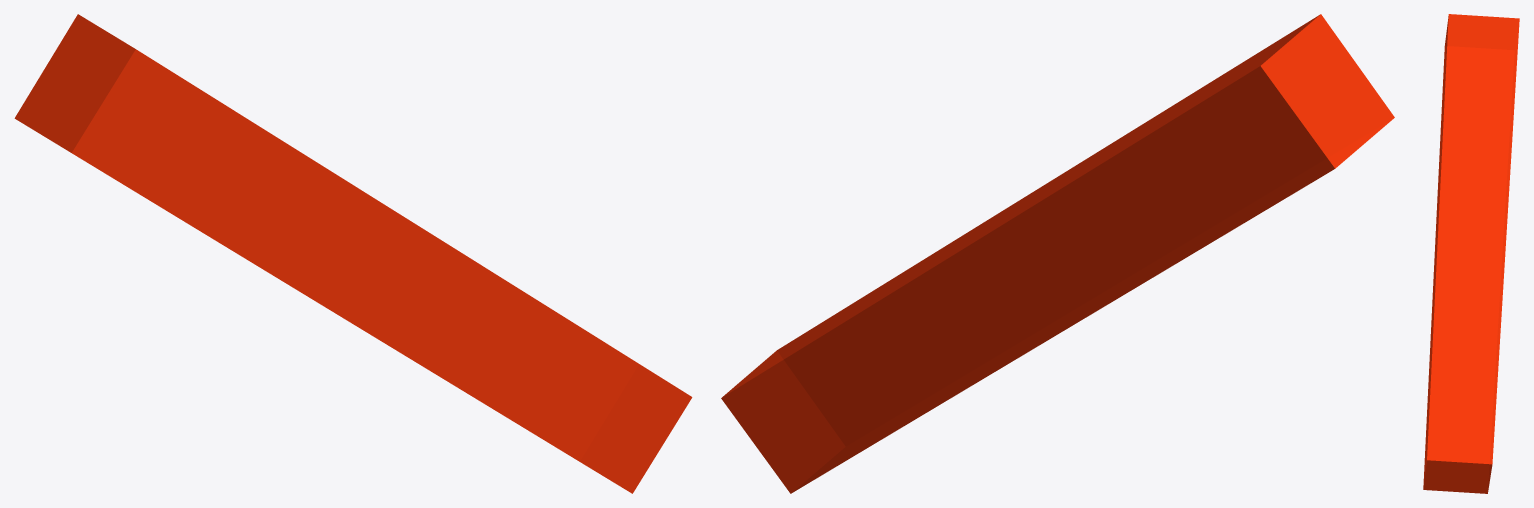
File: Event_420604493_EBrechit_8.fbx
The picture shows the model from 3 angles, left to right: view 1: azimuth 30°, elevation 25°; view 2: azimuth 150°, elevation 25°; view 3: azimuth 270°, elevation 25°; orthographic projection. The views are drawn at different scales.
Parts seen in each view (by area): view 1: Model; view 2: Model; view 3: Model.
Boxes of the visible parts, x1,y1,x2,y2 form: Model: (14,14,692,493); Model: (721,14,1394,493); Model: (1423,14,1519,493).
Size of the model in its own units: 0.366 by 0.3186 by 0.0824.
